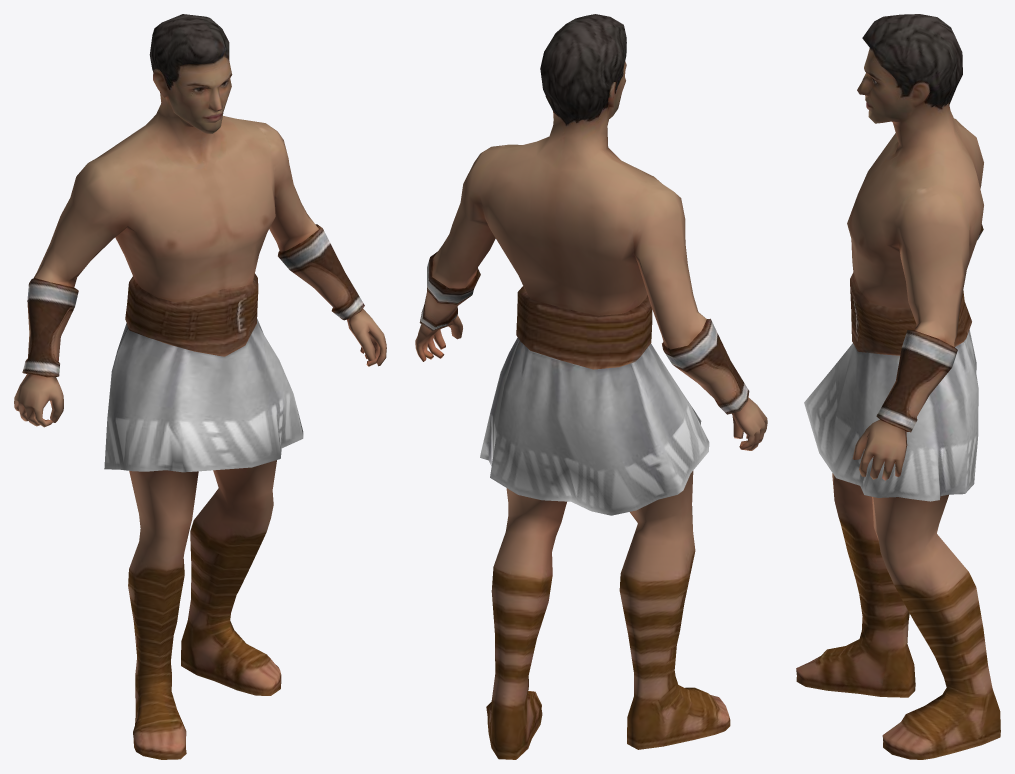
Rendered from body-base.glb.
3 views of the same model, side by side, from view 1: azimuth 30°, elevation 25°; view 2: azimuth 150°, elevation 25°; view 3: azimuth 270°, elevation 25° (orthographic). The views are drawn at different scales.
Size of the model in its own units: 1.09 by 2.07 by 0.5498.
1 material, 1 textured.
